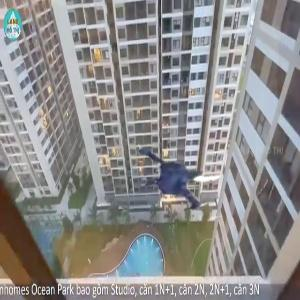drone: (125, 123, 238, 236)
